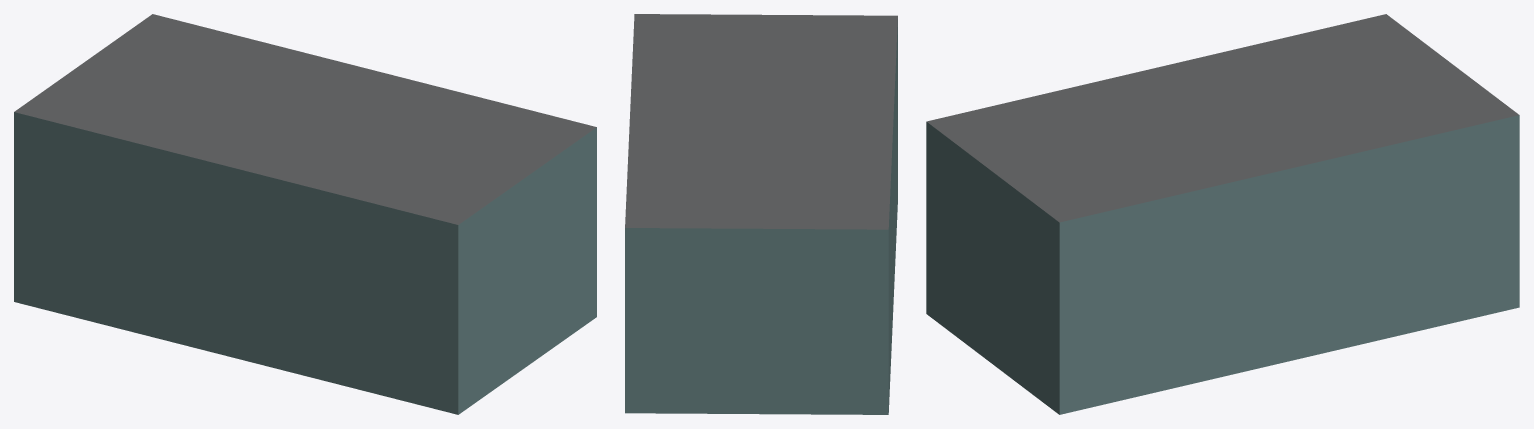
Rendered from nyc-1085017-0.glb.
3 renders of one model, left to right at view 1: azimuth 30°, elevation 25°; view 2: azimuth 150°, elevation 25°; view 3: azimuth 270°, elevation 25°, orthographic. The views are drawn at different scales.
Parts seen in each view (by area): view 1: nyc-1085017-0; view 2: nyc-1085017-0; view 3: nyc-1085017-0.
Boxes of the visible parts, x1,y1,x2,y2 form: nyc-1085017-0: (14, 14, 596, 414); nyc-1085017-0: (625, 14, 897, 414); nyc-1085017-0: (926, 14, 1519, 414).
Size of the model in its own units: 28.84 by 12.41 by 34.67.
